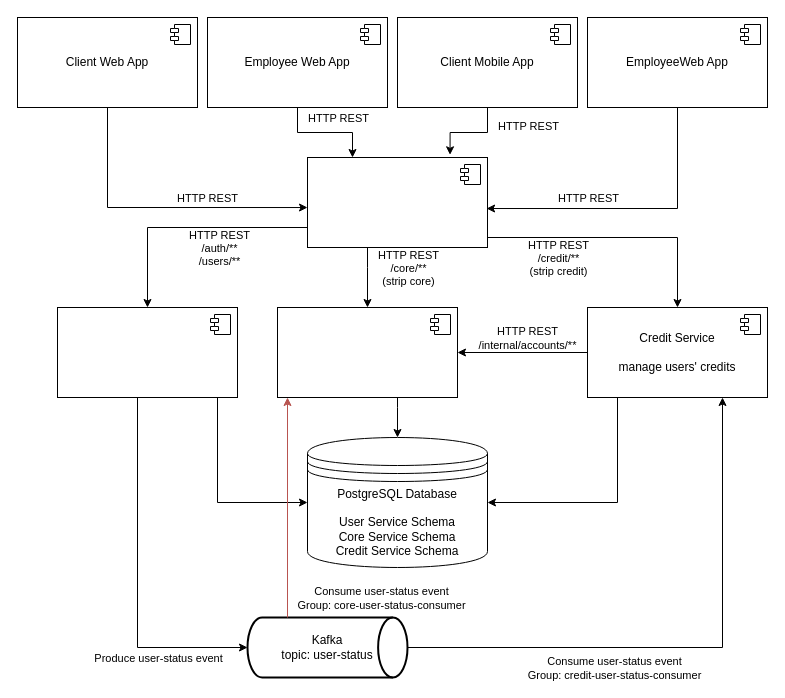
Some shapes in this 785 by 698 pixel diagram are drawn without their labels. Each missing label, with the box of its shape:
API Gateway routing token validation append X-USER-ID and X-USER-ROLE to header: (306, 156, 488, 248)
Core Service manage users' finance: (276, 306, 458, 398)
User Service manage main user data create auth tokens: (56, 306, 238, 398)
